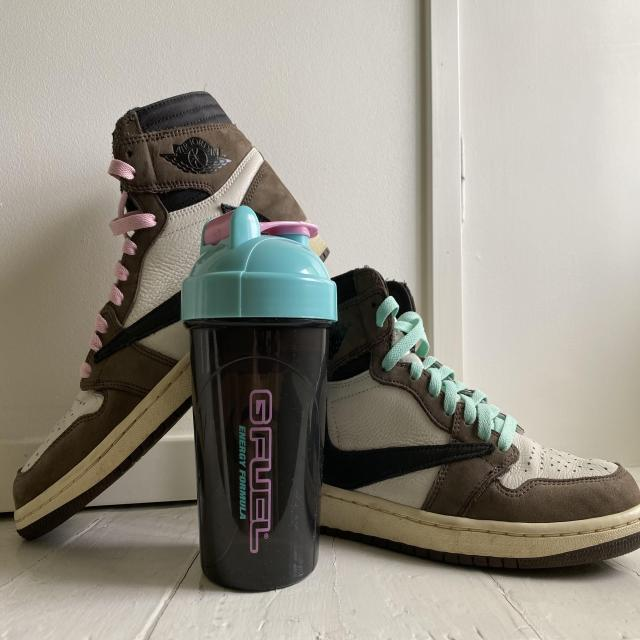shoe: (5, 87, 326, 561), (311, 262, 640, 582)
